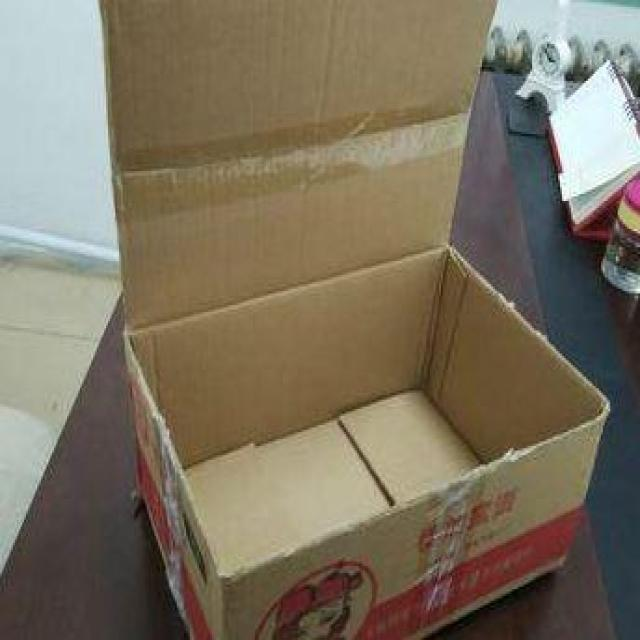cardboard: (92, 5, 610, 638)
